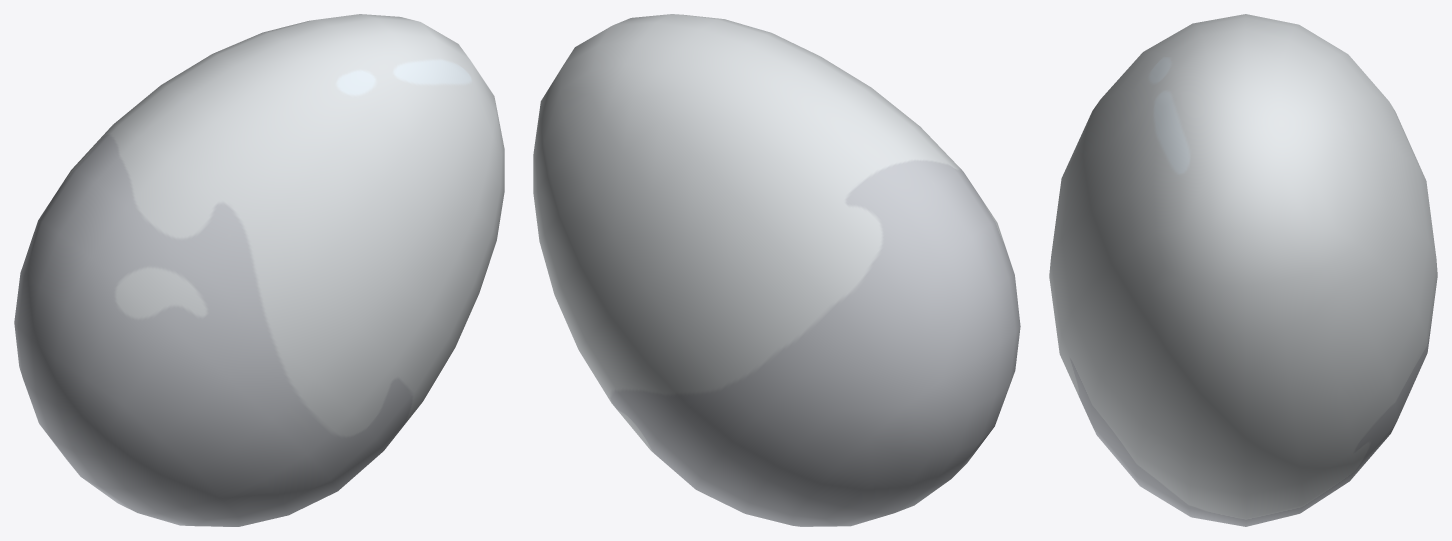
The model's file is egg.glb.
3 views of the same model, side by side, from view 1: azimuth 30°, elevation 25°; view 2: azimuth 150°, elevation 25°; view 3: azimuth 270°, elevation 25° (orthographic). The views are drawn at different scales.
Parts seen in each view (by area): view 1: Egg_low; view 2: Egg_low; view 3: Egg_low.
Part boxes in pixels (left/top/right/bottom): Egg_low: left=14, top=14, right=504, bottom=526; Egg_low: left=533, top=14, right=1020, bottom=526; Egg_low: left=1049, top=14, right=1437, bottom=526.
Size of the model in its own units: 3.51 by 3.39 by 2.37.
Materials: 1 (1 with a texture image).
